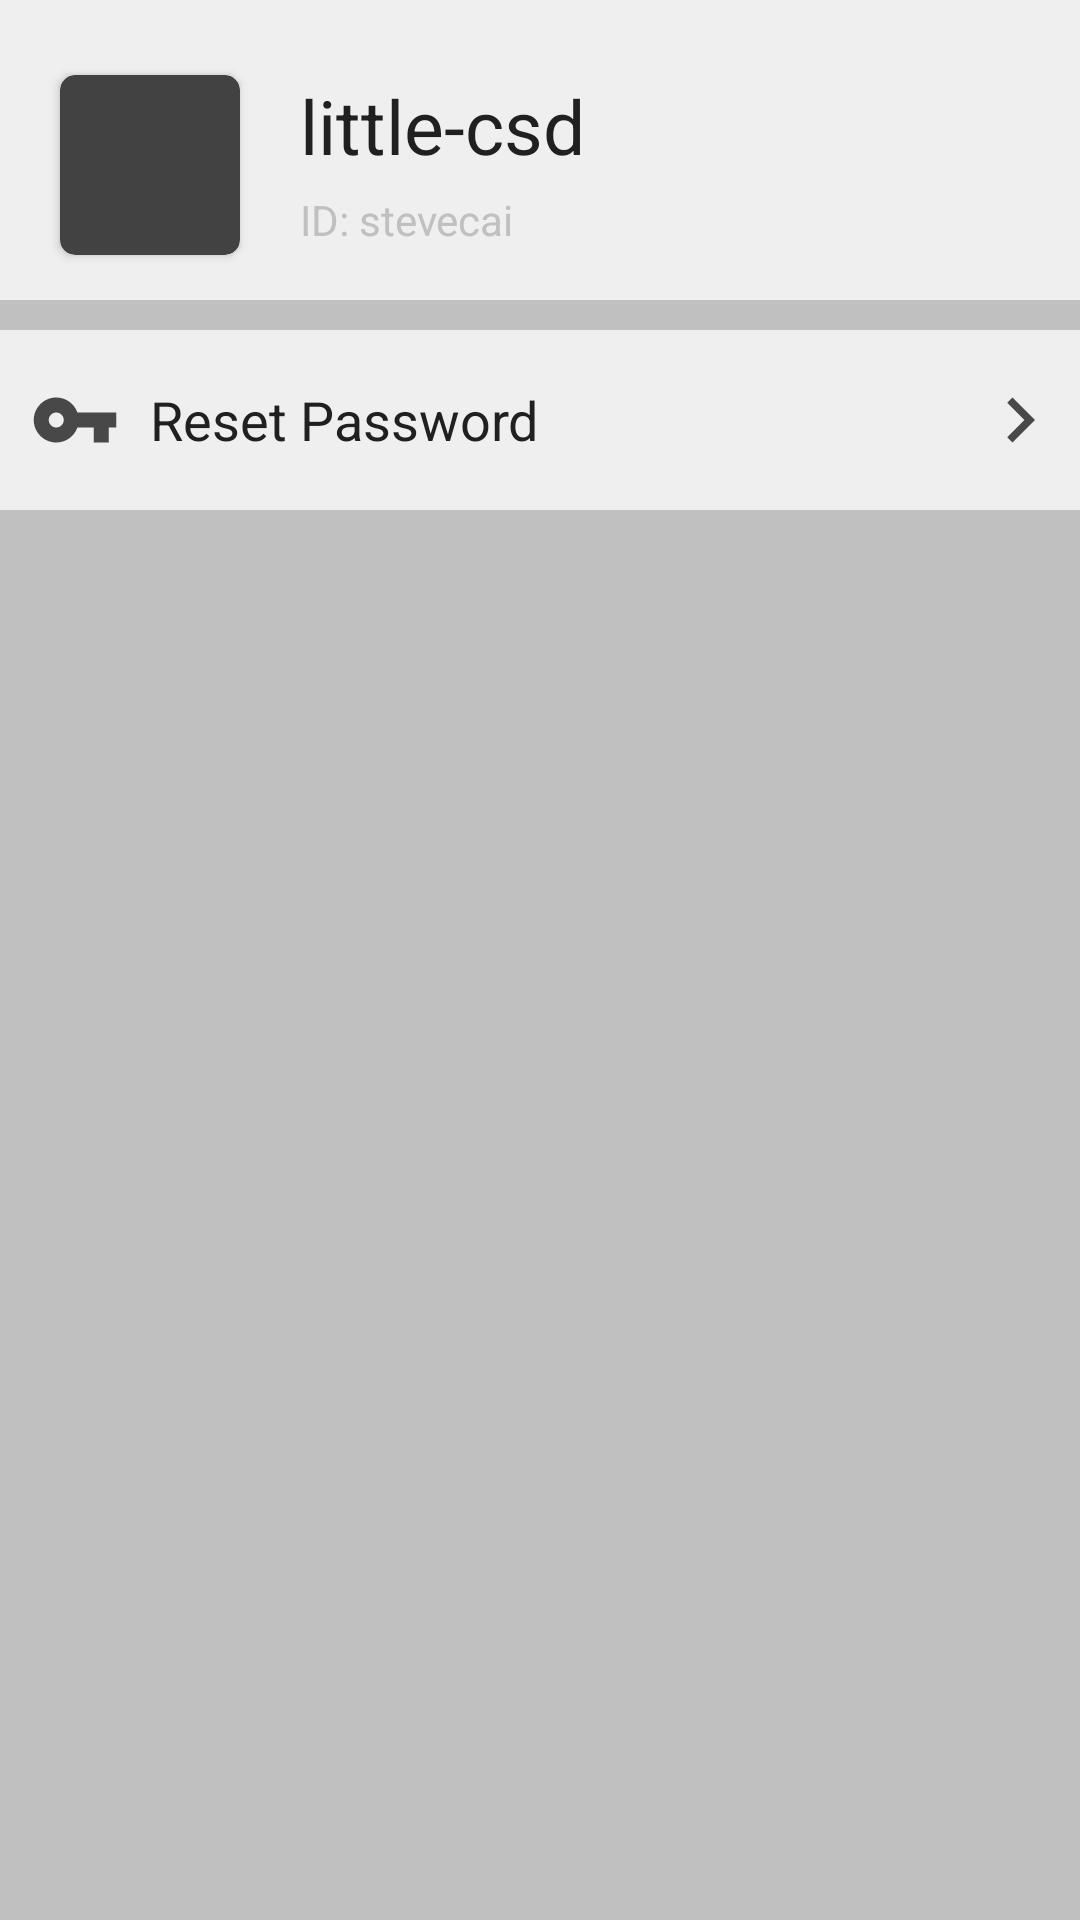

Screen size 1080×1920. Icon name, then its center in pixels as [x,y]:
arrow right: [1021,420]
key: [75,420]
